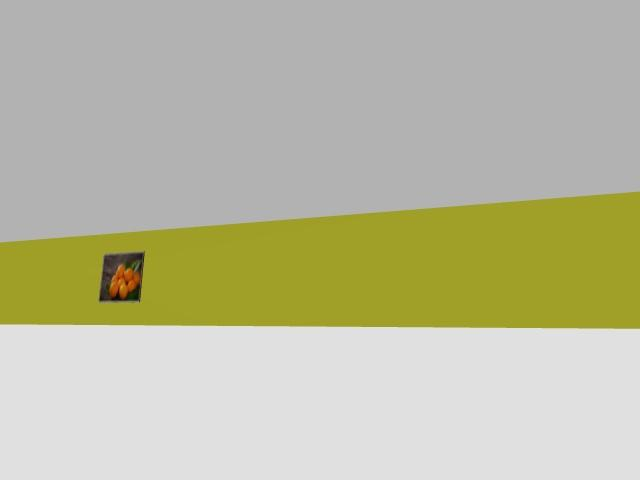orange: (119, 284, 128, 299), (109, 283, 118, 298), (116, 264, 125, 278), (124, 268, 132, 282), (127, 279, 136, 291), (133, 272, 140, 285), (117, 278, 125, 287), (111, 275, 117, 283)
